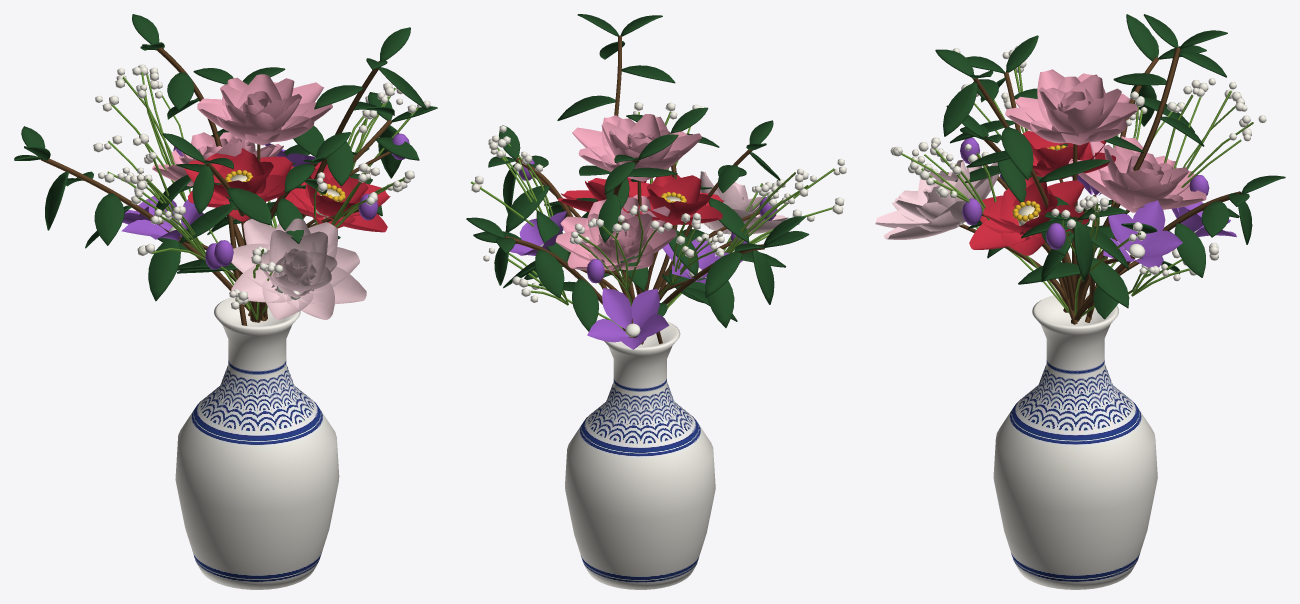
Rendered from shrinevase1.glb.
3 views of the same model, side by side, from view 1: azimuth 30°, elevation 25°; view 2: azimuth 150°, elevation 25°; view 3: azimuth 270°, elevation 25° (orthographic). The views are drawn at different scales.
Visible parts, largest first — view 1: VaseBody, VaseLeaves, VaseMumPeony6, VaseMumPeony0, VaseMumBreath, VaseBreathTwigs, VaseStems, VaseMumCamellia1, VaseMumCamellia3, VaseMumPeony2, VaseMumBell4; view 2: VaseBody, VaseLeaves, VaseMumPeony2, VaseMumPeony0, VaseBreathTwigs, VaseMumBreath, VaseMumBell7, VaseMumCamellia1, VaseStems, VaseMumPeony6, VaseMumBell5, VaseMumCamellia3 (+1 smaller); view 3: VaseBody, VaseLeaves, VaseMumPeony0, VaseMumPeony2, VaseMumBreath, VaseMumPeony6, VaseMumCamellia3, VaseBreathTwigs, VaseStems, VaseMumBell5, VaseMumCamellia1, VaseMumBell7.
Boxes of the visible parts, bbox=[...] form: VaseBody: bbox=[175, 297, 339, 589]; VaseLeaves: bbox=[14, 14, 437, 301]; VaseMumPeony6: bbox=[231, 218, 366, 319]; VaseMumPeony0: bbox=[197, 74, 332, 145]; VaseMumBreath: bbox=[93, 64, 430, 309]; VaseBreathTwigs: bbox=[107, 72, 418, 320]; VaseStems: bbox=[41, 47, 391, 325]; VaseMumCamellia1: bbox=[184, 148, 292, 221]; VaseMumCamellia3: bbox=[277, 161, 390, 232]; VaseMumPeony2: bbox=[152, 132, 283, 186]; VaseMumBell4: bbox=[121, 196, 203, 240]; VaseBody: bbox=[565, 321, 715, 589]; VaseLeaves: bbox=[466, 14, 809, 331]; VaseMumPeony2: bbox=[555, 194, 676, 270]; VaseMumPeony0: bbox=[572, 114, 701, 181]; VaseBreathTwigs: bbox=[471, 111, 834, 329]; VaseMumBreath: bbox=[471, 101, 846, 302]; VaseMumBell7: bbox=[587, 288, 668, 349]; VaseMumCamellia1: bbox=[623, 174, 724, 225]; VaseStems: bbox=[505, 36, 764, 344]; VaseMumPeony6: bbox=[700, 171, 788, 234]; VaseMumBell5: bbox=[509, 211, 566, 255]; VaseMumCamellia3: bbox=[558, 177, 646, 211]; VaseBody: bbox=[993, 293, 1157, 589]; VaseLeaves: bbox=[935, 14, 1285, 319]; VaseMumPeony0: bbox=[1005, 69, 1138, 145]; VaseMumPeony2: bbox=[1068, 136, 1206, 212]; VaseMumBreath: bbox=[890, 46, 1266, 281]; VaseMumPeony6: bbox=[875, 160, 999, 239]; VaseMumCamellia3: bbox=[969, 177, 1089, 255]; VaseBreathTwigs: bbox=[901, 65, 1253, 317]; VaseStems: bbox=[972, 47, 1241, 324]; VaseMumBell5: bbox=[1103, 200, 1182, 267]; VaseMumCamellia1: bbox=[1022, 130, 1115, 179]; VaseMumBell7: bbox=[1171, 201, 1236, 237].
Size of the model in its own units: 0.1817 by 0.2483 by 0.1698.
Materials: 11 (1 with a texture image).
